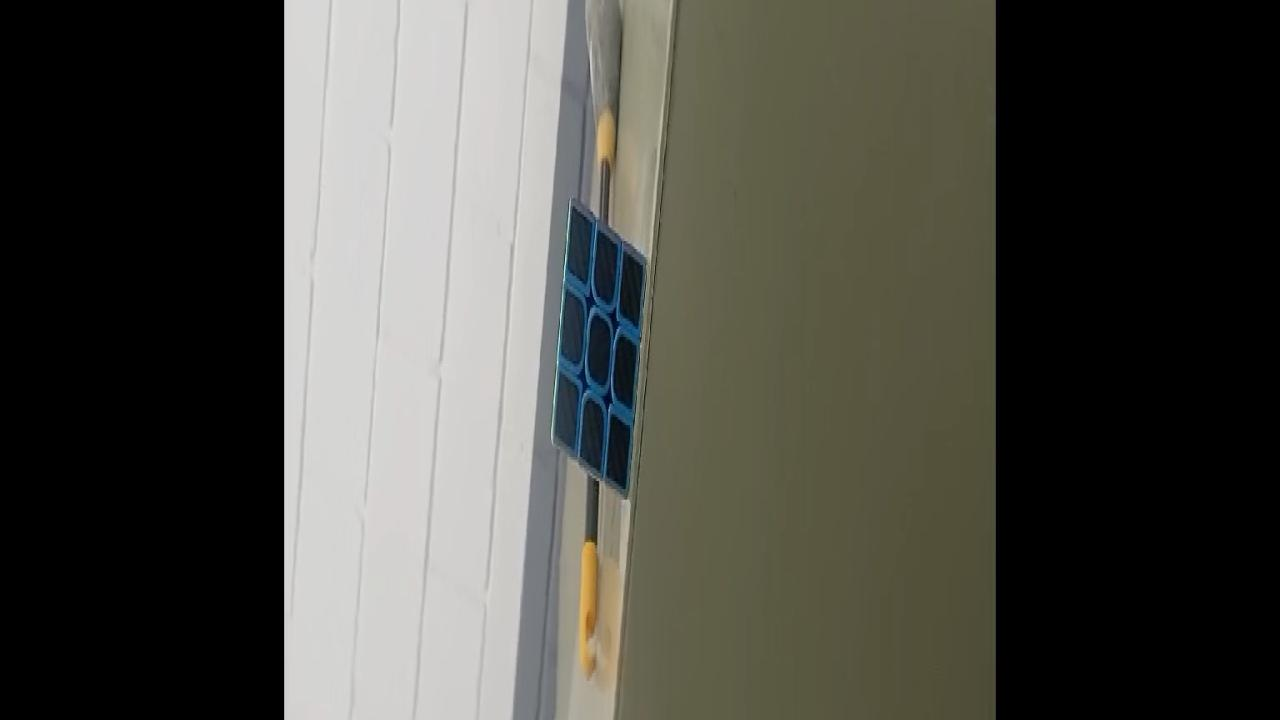Cube: (550, 194, 648, 505)
